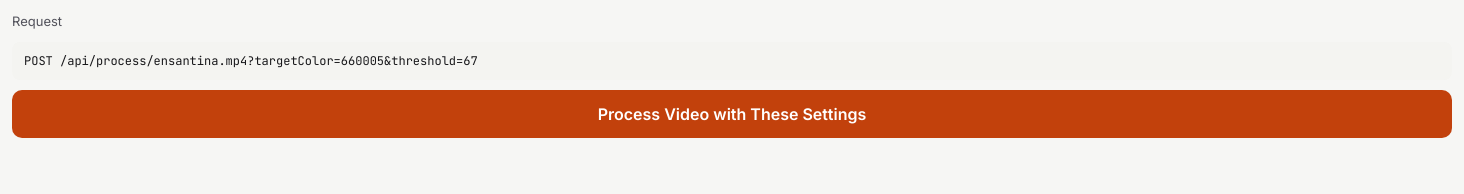
Test: JobPanel › shows the server's message when the job can't be started
The image size is (1464, 194).
Click the button "Process Video with These Settings" at (732, 114), box [12, 90, 1452, 138]
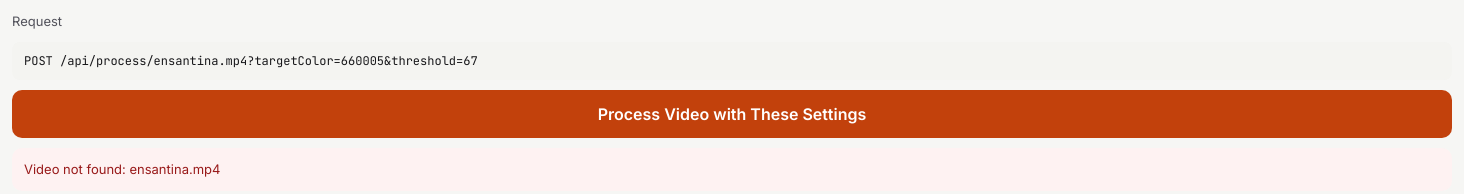
Result: the message reads "Video not found: ensantina.mp4" at [24, 160, 220, 176]
